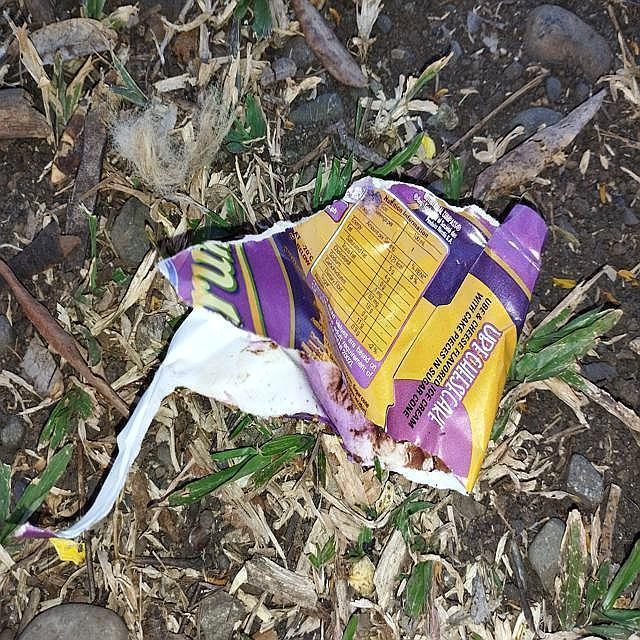Biodegradable: (157, 173, 547, 497)
